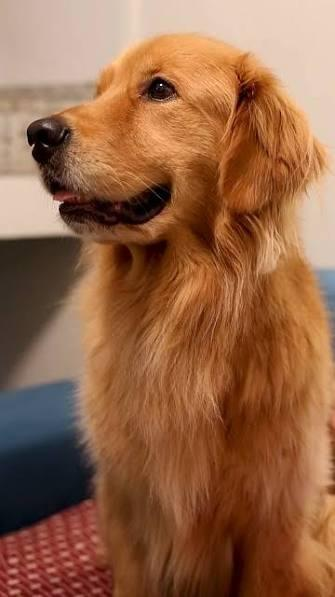adult_dog: (28, 29, 335, 597)
